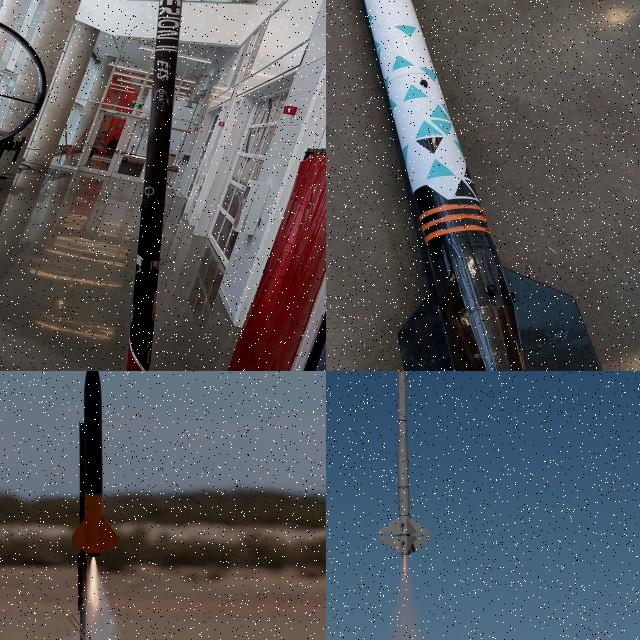Rocket: (364, 0, 603, 371), (126, 0, 182, 371), (376, 371, 434, 556), (69, 371, 120, 558)
